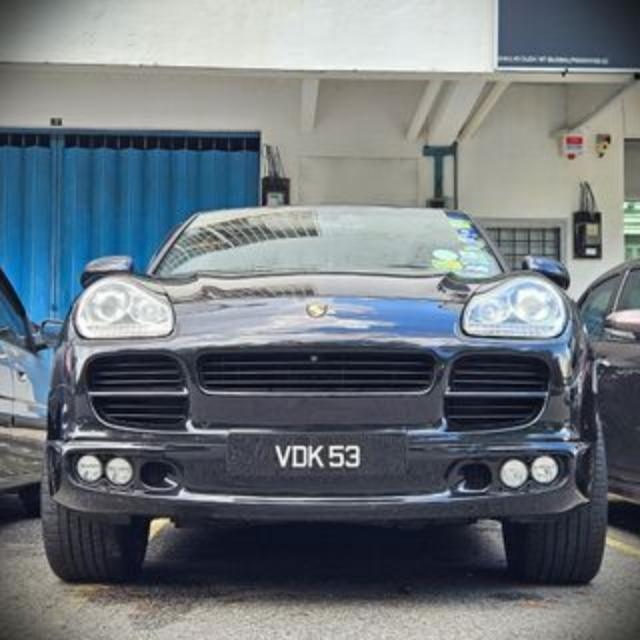License_Plate: (256, 436, 382, 478)
car: (39, 203, 609, 587)
